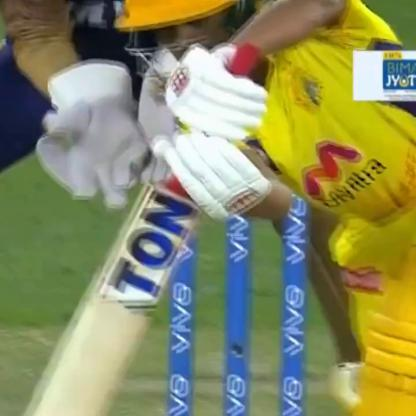bat: (21, 47, 265, 402)
